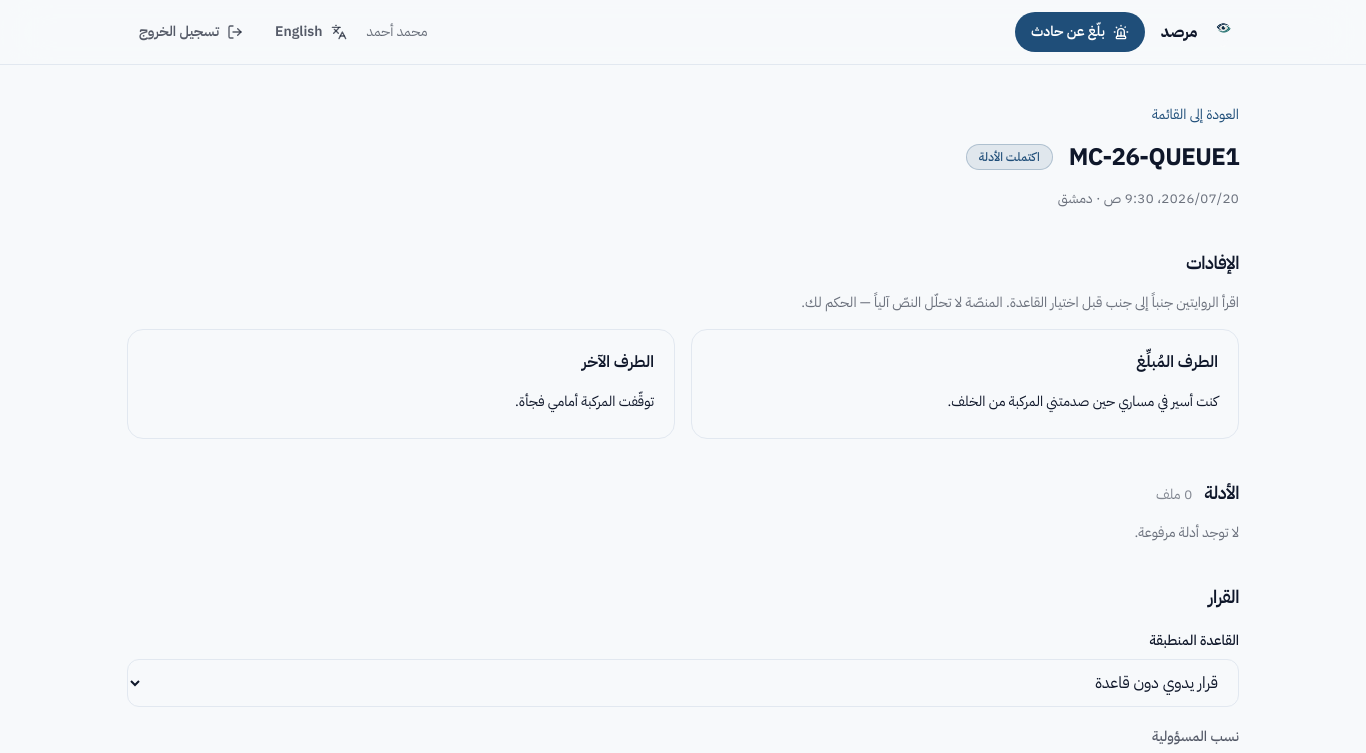
review screen › surfaces a server rejection instead of pretending it succeeded
Select "REAR_END — اصطدام خلفي: المسؤولية كاملة على المركبة الخلفية." in the dropdown labelled "القاعدة المنطبقة": (683, 683) [127,659,1239,707]
(page scrolled)
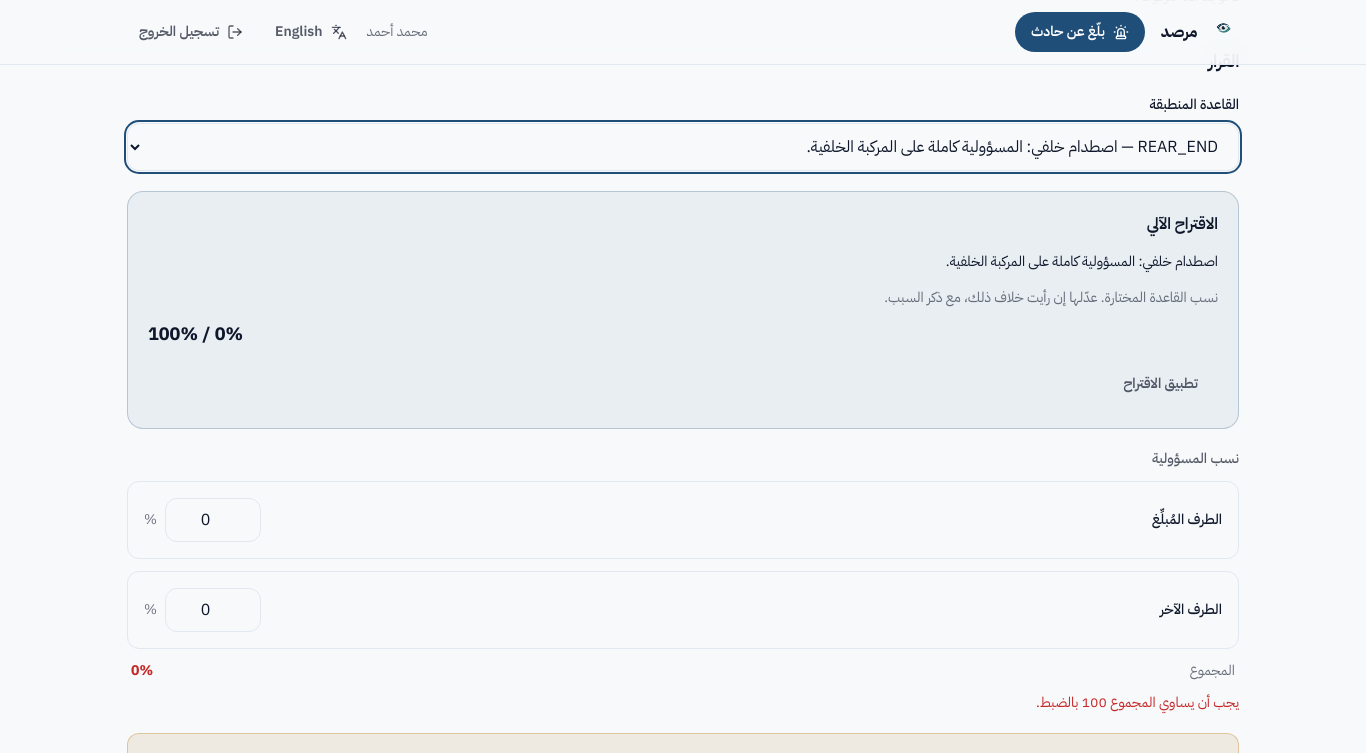
Click the button "تطبيق الاقتراح": (1161, 384) [1103,360,1218,408]
(page scrolled)
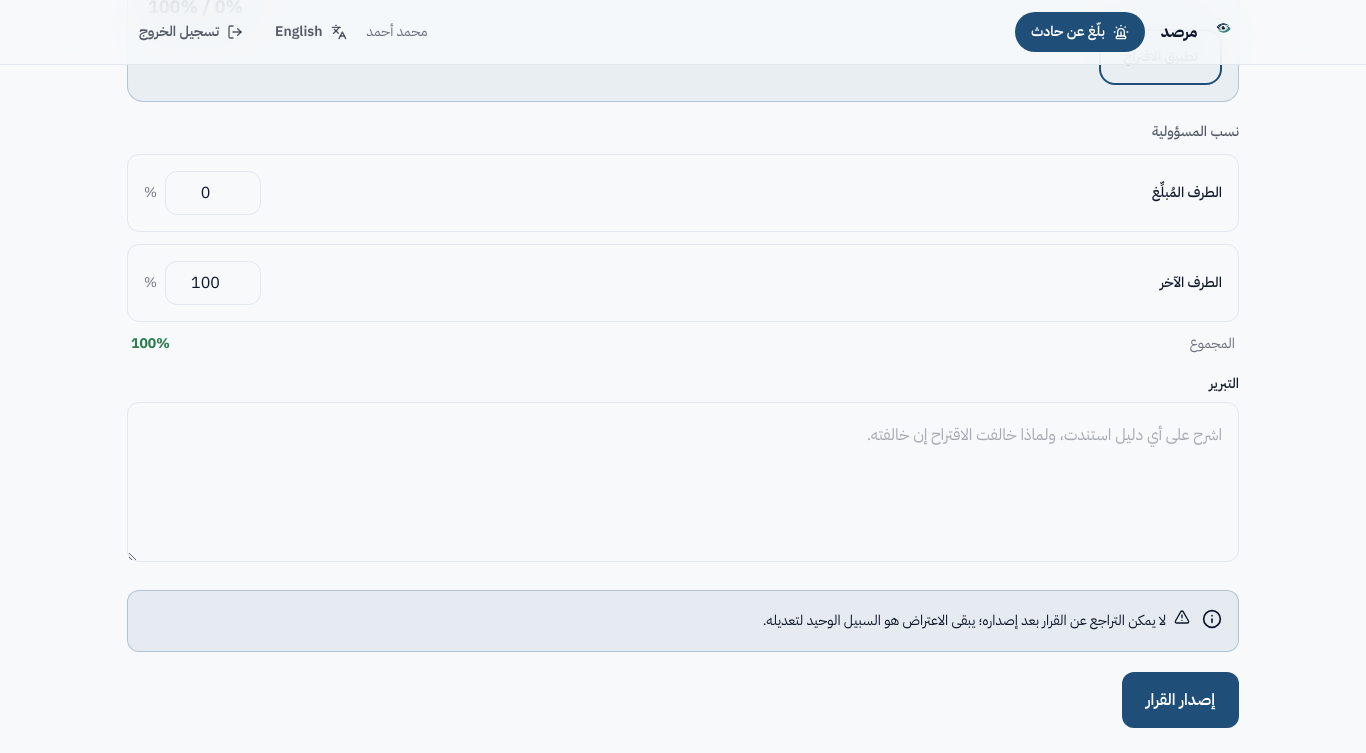
Click the button "إصدار القرار": (1180, 700) [1122,672,1239,728]
(page scrolled)
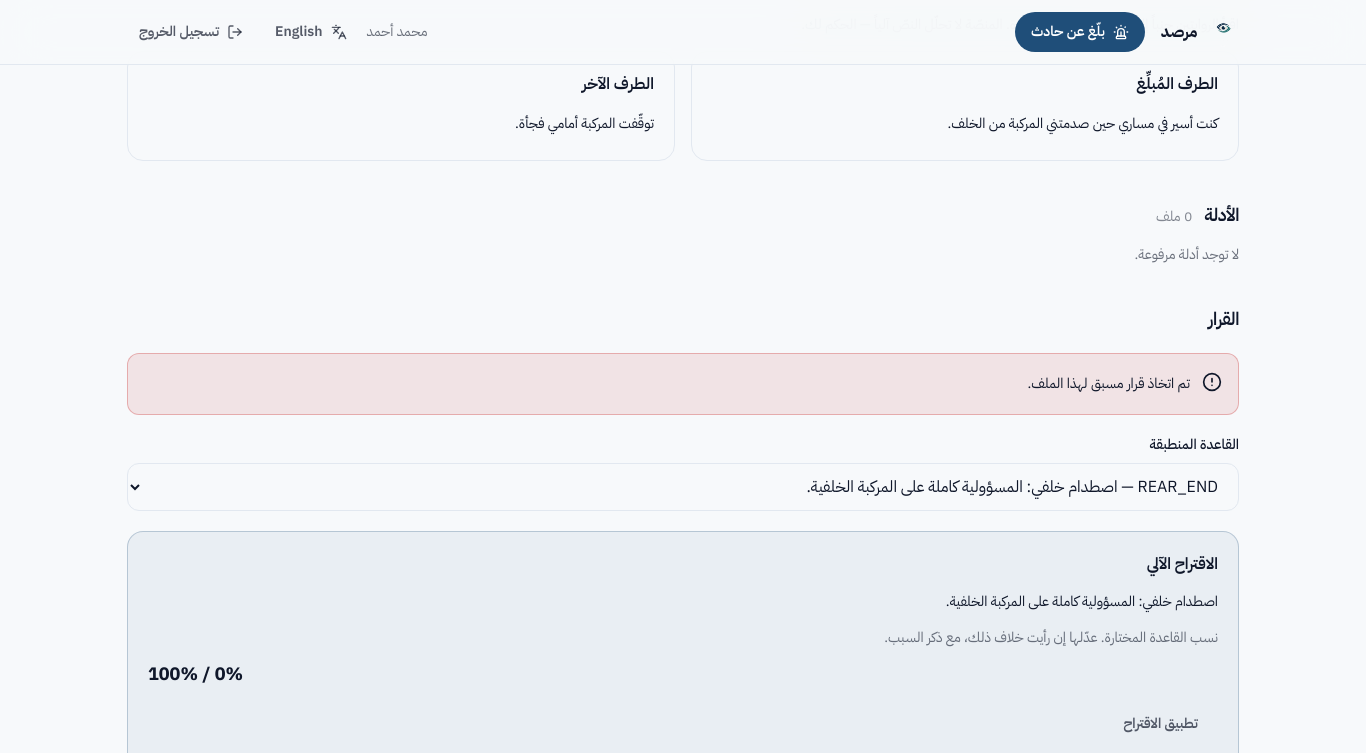
Result: the text "تم اتخاذ قرار مسبق لهذا الملف." is shown at [1028,370,1190,398]
